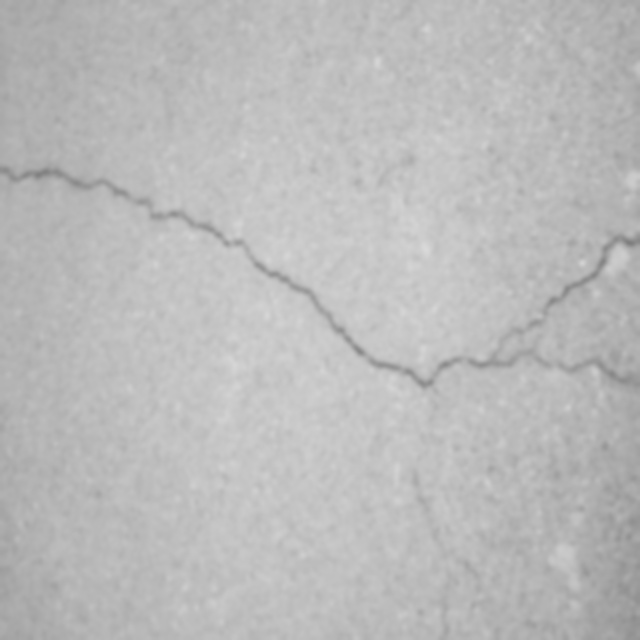SurfaceCrack: (1, 126, 640, 421)
